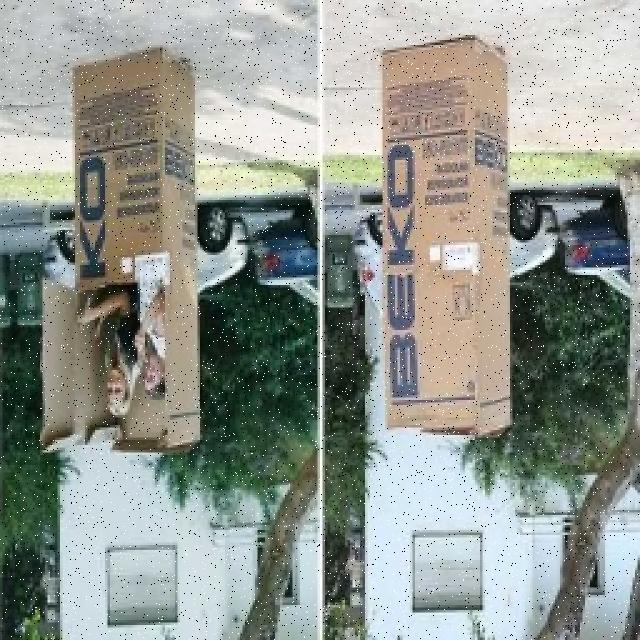box: (30, 41, 208, 456), (380, 33, 510, 447)
